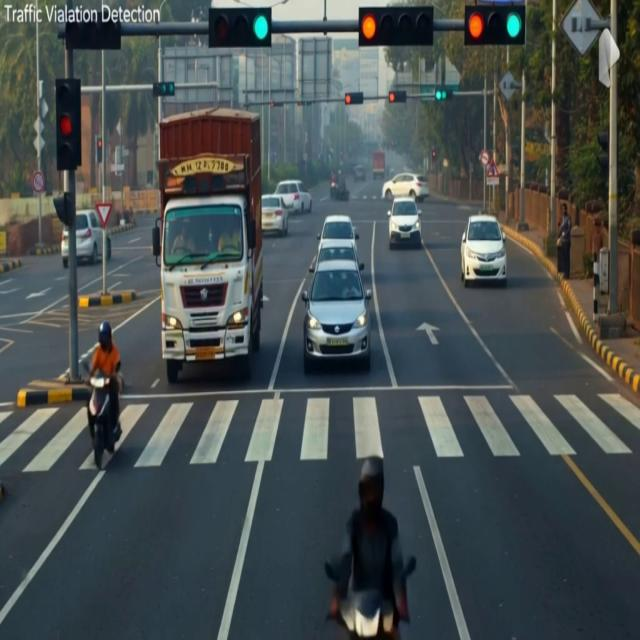car: (301, 261, 371, 373), (461, 215, 506, 286), (309, 240, 364, 271), (387, 198, 421, 248), (76, 210, 105, 263), (382, 173, 429, 201), (274, 180, 312, 213), (317, 216, 358, 246), (261, 194, 289, 236), (354, 164, 366, 182)
scooty: (328, 591, 394, 639), (87, 370, 116, 470), (335, 184, 349, 200), (330, 181, 338, 199)
traffic signal: (359, 6, 433, 47), (209, 7, 271, 48), (465, 5, 525, 46), (56, 79, 81, 171), (65, 13, 121, 50), (53, 192, 74, 226), (598, 132, 610, 172), (153, 82, 174, 97), (345, 92, 363, 105), (435, 88, 453, 101), (388, 91, 406, 103), (96, 137, 102, 164), (270, 102, 283, 108), (298, 101, 312, 106), (339, 150, 344, 158), (432, 148, 435, 161), (270, 102, 274, 108)
truck: (152, 108, 263, 383), (373, 151, 385, 181)
